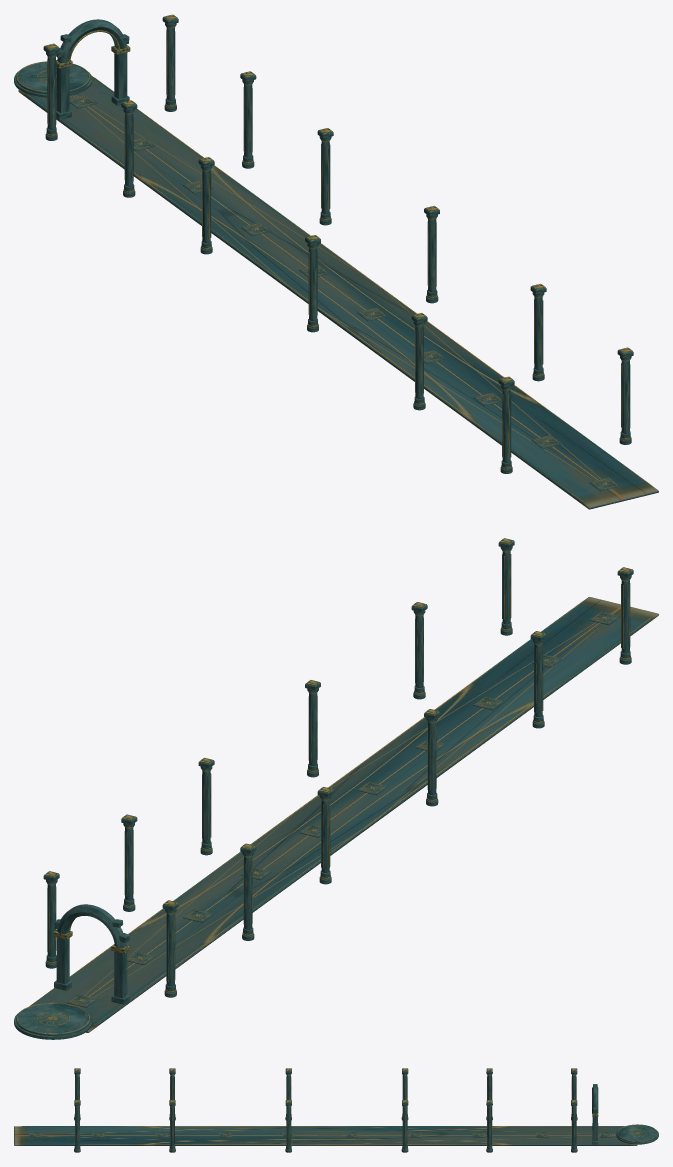
File: atlantis-route.glb
The picture shows the model from 3 angles, top to bottom: view 1: azimuth 30°, elevation 25°; view 2: azimuth 150°, elevation 25°; view 3: azimuth 270°, elevation 25°; orthographic projection. The views are drawn at different scales.
Visible parts, largest first — view 1: ProcessionalCauseway, LobbyPlatformDeck_mesh, CausewayGoldInlay_-2.02, CausewayGoldInlay_+2.02, ArchStoneArc_mesh; view 2: ProcessionalCauseway, LobbyPlatformDeck_mesh, ArchStoneArc_mesh, CausewayGoldInlay_-2.02, CausewayGoldInlay_+2.02; view 3: ProcessionalCauseway, ColumnShaft_mesh (×6), LobbyPlatformDeck_mesh, CausewayGoldInlay_+2.02, CausewayGoldInlay_-2.02, ArchStoneArc_mesh.
Part boxes in pixels (x1,y1,x2,y2): ProcessionalCauseway: (18, 75, 658, 509); LobbyPlatformDeck_mesh: (16, 62, 90, 93); CausewayGoldInlay_-2.02: (26, 94, 583, 501); CausewayGoldInlay_+2.02: (94, 77, 650, 485); ArchStoneArc_mesh: (57, 19, 126, 64); ProcessionalCauseway: (32, 597, 658, 1032); LobbyPlatformDeck_mesh: (16, 1003, 90, 1035); ArchStoneArc_mesh: (57, 904, 126, 949); CausewayGoldInlay_-2.02: (94, 618, 651, 1025); CausewayGoldInlay_+2.02: (29, 601, 583, 1006); ProcessionalCauseway: (14, 1126, 637, 1145); ColumnShaft_mesh (×6): (75, 1106, 576, 1146); LobbyPlatformDeck_mesh: (617, 1125, 657, 1142); CausewayGoldInlay_+2.02: (22, 1144, 629, 1144); CausewayGoldInlay_-2.02: (22, 1126, 625, 1126); ArchStoneArc_mesh: (592, 1085, 598, 1113).
Size of the model in its own units: 7.75 by 5.37 by 61.03.
11 materials, 11 textured.
